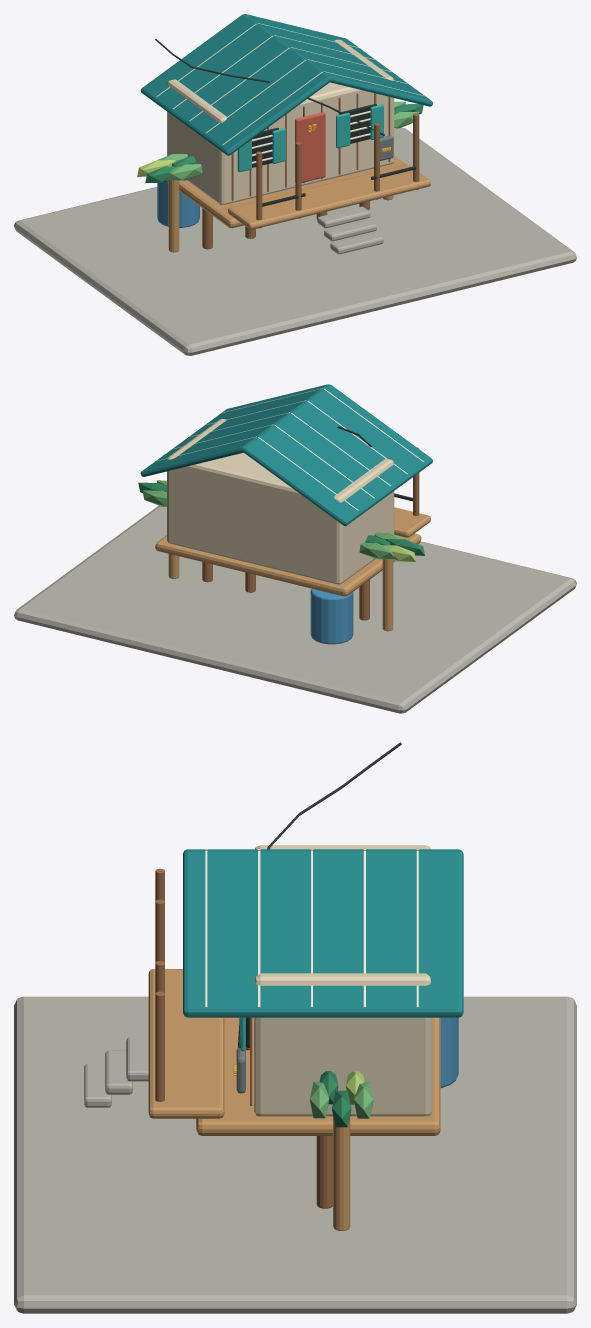
File: kampung-call-v2.glb
The picture shows the model from 3 angles, top to bottom: view 1: azimuth 30°, elevation 25°; view 2: azimuth 150°, elevation 25°; view 3: azimuth 270°, elevation 25°; orthographic projection. The views are drawn at different scales.
Parts seen in each view (by area): view 1: Ground, UNCLE LIM KAMPUNG CALL KIT · Deep teal, UNCLE LIM KAMPUNG CALL KIT · Warm plaster, UNCLE LIM KAMPUNG CALL KIT · Sun timber, UNCLE LIM KAMPUNG CALL KIT · Timber, UNCLE LIM KAMPUNG CALL KIT · Concrete, UNCLE LIM KAMPUNG CALL KIT · Ink, UNCLE LIM KAMPUNG CALL KIT · Terracotta, UNCLE LIM KAMPUNG CALL KIT · Weathered teal, UNCLE LIM KAMPUNG CALL KIT · Chalk, UNCLE LIM KAMPUNG CALL KIT · Utility blue, UNCLE LIM KAMPUNG CALL KIT · Plant mid (+1 smaller); view 2: Ground, UNCLE LIM KAMPUNG CALL KIT · Warm plaster, UNCLE LIM KAMPUNG CALL KIT · Deep teal, UNCLE LIM KAMPUNG CALL KIT · Sun timber, UNCLE LIM KAMPUNG CALL KIT · Utility blue, UNCLE LIM KAMPUNG CALL KIT · Chalk, UNCLE LIM KAMPUNG CALL KIT · Timber, UNCLE LIM KAMPUNG CALL KIT · Plant mid, UNCLE LIM KAMPUNG CALL KIT · Plant deep; view 3: Ground, UNCLE LIM KAMPUNG CALL KIT · Deep teal, UNCLE LIM KAMPUNG CALL KIT · Warm plaster, UNCLE LIM KAMPUNG CALL KIT · Sun timber, UNCLE LIM KAMPUNG CALL KIT · Timber, UNCLE LIM KAMPUNG CALL KIT · Concrete, UNCLE LIM KAMPUNG CALL KIT · Chalk, UNCLE LIM KAMPUNG CALL KIT · Utility blue, UNCLE LIM KAMPUNG CALL KIT · Plant mid, UNCLE LIM KAMPUNG CALL KIT · Plant deep, UNCLE LIM KAMPUNG CALL KIT · Ink.
Boxes of the visible parts, x1,y1,x2,y2 form: Ground: [14, 127, 576, 355]; UNCLE LIM KAMPUNG CALL KIT · Deep teal: [140, 14, 432, 155]; UNCLE LIM KAMPUNG CALL KIT · Warm plaster: [167, 39, 394, 204]; UNCLE LIM KAMPUNG CALL KIT · Sun timber: [167, 156, 430, 252]; UNCLE LIM KAMPUNG CALL KIT · Timber: [202, 93, 419, 249]; UNCLE LIM KAMPUNG CALL KIT · Concrete: [317, 206, 383, 254]; UNCLE LIM KAMPUNG CALL KIT · Ink: [155, 39, 416, 206]; UNCLE LIM KAMPUNG CALL KIT · Terracotta: [295, 112, 325, 182]; UNCLE LIM KAMPUNG CALL KIT · Weathered teal: [237, 104, 383, 172]; UNCLE LIM KAMPUNG CALL KIT · Chalk: [156, 23, 423, 163]; UNCLE LIM KAMPUNG CALL KIT · Utility blue: [157, 182, 199, 227]; UNCLE LIM KAMPUNG CALL KIT · Plant mid: [154, 101, 419, 180]; Ground: [14, 505, 576, 713]; UNCLE LIM KAMPUNG CALL KIT · Warm plaster: [167, 419, 394, 584]; UNCLE LIM KAMPUNG CALL KIT · Deep teal: [140, 384, 432, 526]; UNCLE LIM KAMPUNG CALL KIT · Sun timber: [155, 507, 430, 631]; UNCLE LIM KAMPUNG CALL KIT · Utility blue: [310, 588, 353, 644]; UNCLE LIM KAMPUNG CALL KIT · Chalk: [156, 388, 423, 510]; UNCLE LIM KAMPUNG CALL KIT · Timber: [202, 447, 419, 620]; UNCLE LIM KAMPUNG CALL KIT · Plant mid: [142, 480, 407, 559]; UNCLE LIM KAMPUNG CALL KIT · Plant deep: [138, 482, 424, 555]; Ground: [14, 996, 576, 1313]; UNCLE LIM KAMPUNG CALL KIT · Deep teal: [183, 849, 463, 1017]; UNCLE LIM KAMPUNG CALL KIT · Warm plaster: [254, 845, 432, 1116]; UNCLE LIM KAMPUNG CALL KIT · Sun timber: [148, 969, 440, 1230]; UNCLE LIM KAMPUNG CALL KIT · Timber: [155, 868, 332, 1208]; UNCLE LIM KAMPUNG CALL KIT · Concrete: [84, 1037, 148, 1107]; UNCLE LIM KAMPUNG CALL KIT · Chalk: [205, 849, 418, 1007]; UNCLE LIM KAMPUNG CALL KIT · Utility blue: [440, 1017, 458, 1087]; UNCLE LIM KAMPUNG CALL KIT · Plant mid: [309, 1081, 373, 1118]; UNCLE LIM KAMPUNG CALL KIT · Plant deep: [319, 1071, 351, 1127]; UNCLE LIM KAMPUNG CALL KIT · Ink: [238, 742, 401, 1048].
Bounding box in the file's own units: 11 × 5.65 × 8.53.
1 material, 1 textured.
